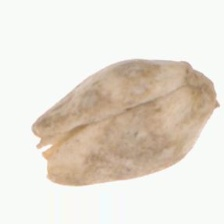L1: (185, 60, 221, 114), (28, 120, 55, 184)
L2: (32, 59, 221, 185)
